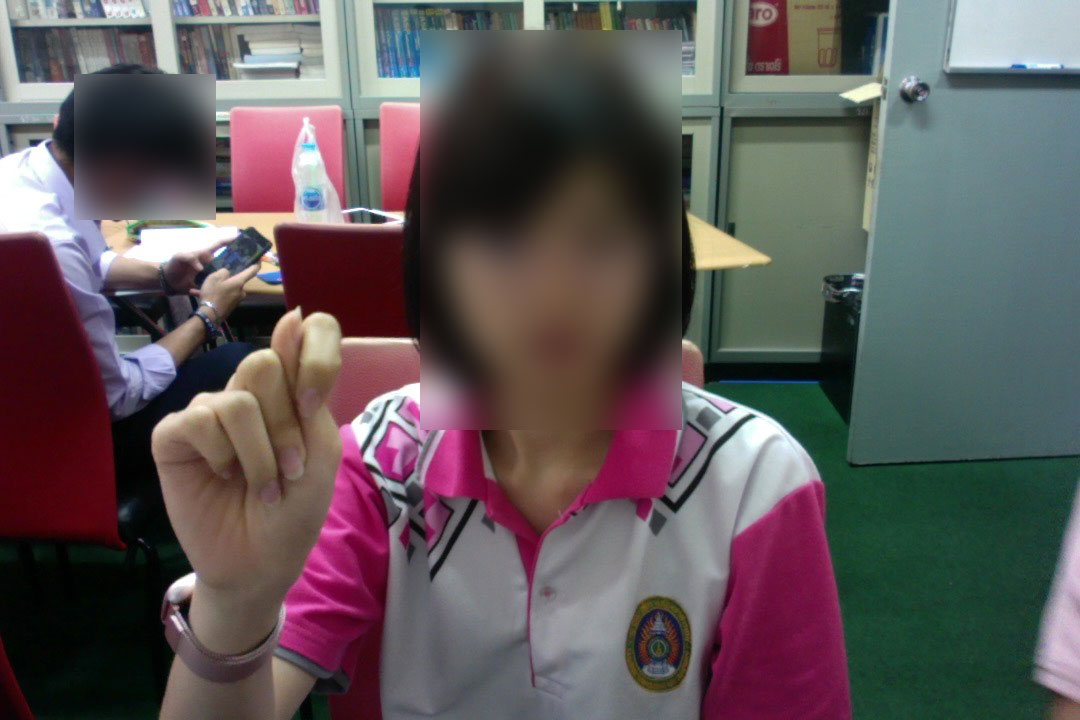tor: (147, 304, 350, 614)
